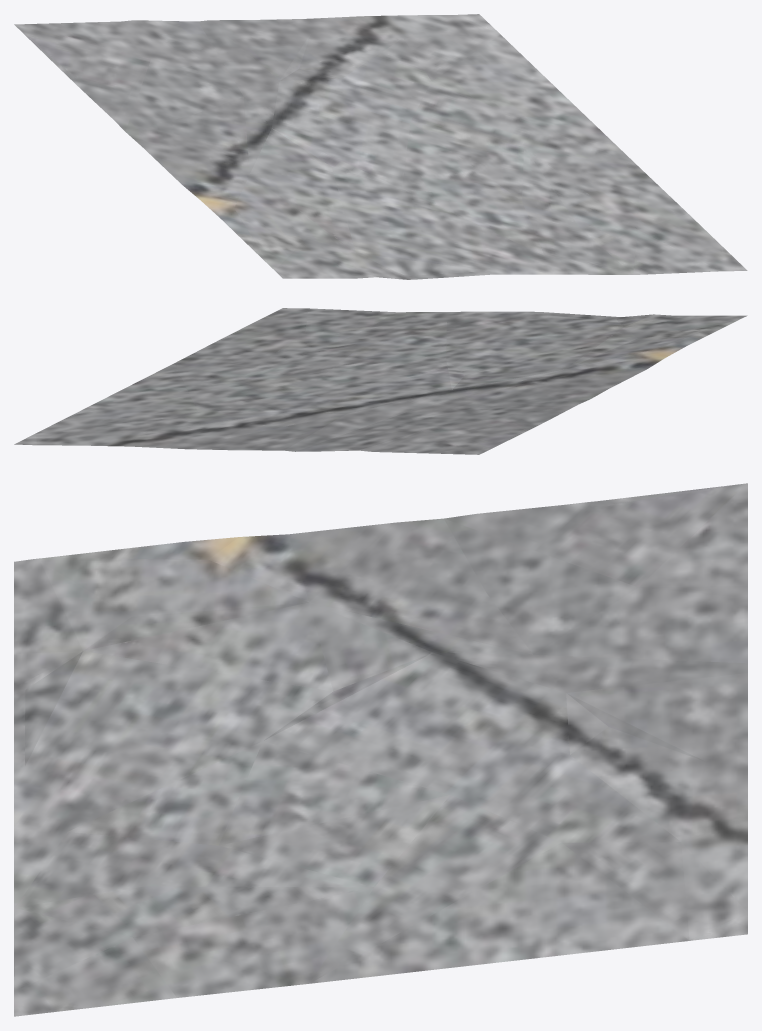
The picture shows the model from 3 angles, top to bottom: view 1: azimuth 30°, elevation 25°; view 2: azimuth 150°, elevation 25°; view 3: azimuth 270°, elevation 25°; orthographic projection. The views are drawn at different scales.
Bounding box in the file's own units: 0.8374 × 0.281 × 0.8373.
Materials: 3 (3 with a texture image).
